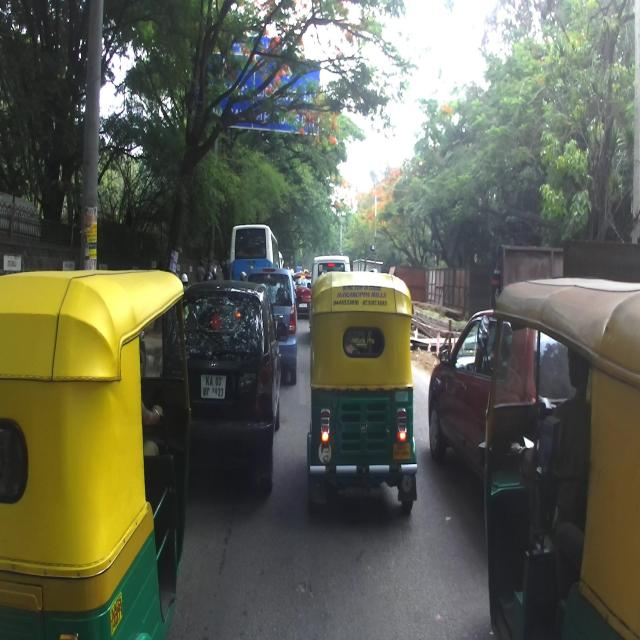autorickshaw: (0, 268, 197, 639), (477, 277, 640, 639), (306, 270, 417, 516)
bus: (229, 223, 283, 286), (279, 246, 297, 273)
car: (173, 279, 288, 494), (428, 308, 507, 484), (247, 265, 302, 385)
